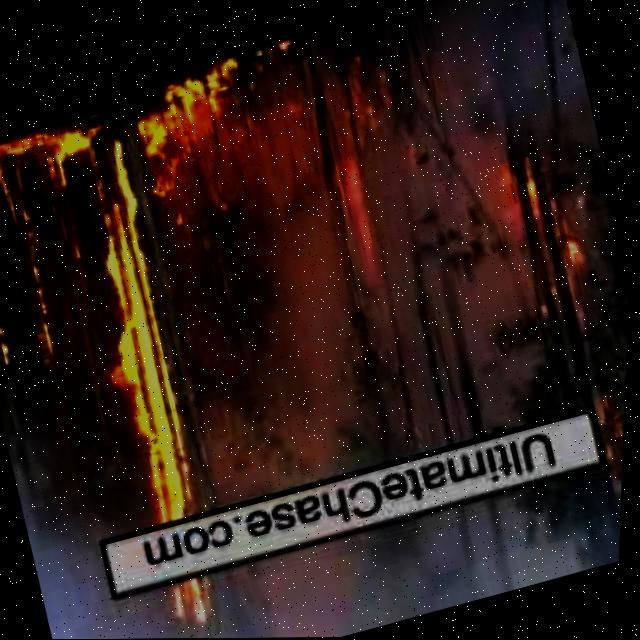Fire: (31, 112, 213, 528), (495, 140, 615, 350), (131, 57, 260, 174), (329, 44, 388, 116), (0, 137, 38, 196)
